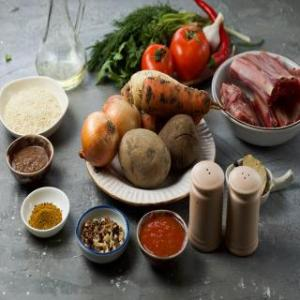carrot: (142, 74, 212, 120)
onion: (78, 112, 118, 170), (97, 89, 143, 136)
potato: (121, 128, 169, 186), (156, 115, 198, 166)
tomato: (172, 25, 208, 74), (142, 41, 170, 75)
